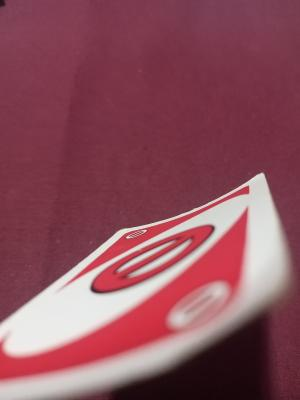skip: (86, 222, 236, 338)
